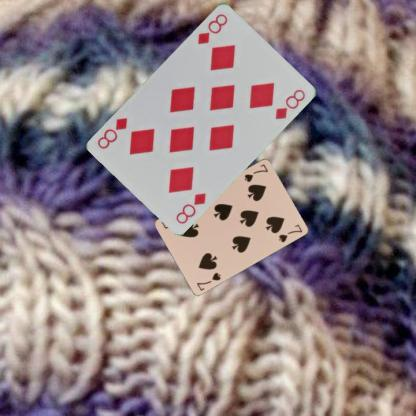7s: (194, 269, 222, 292), (242, 161, 269, 183)
8d: (195, 10, 229, 46), (173, 190, 207, 224)
